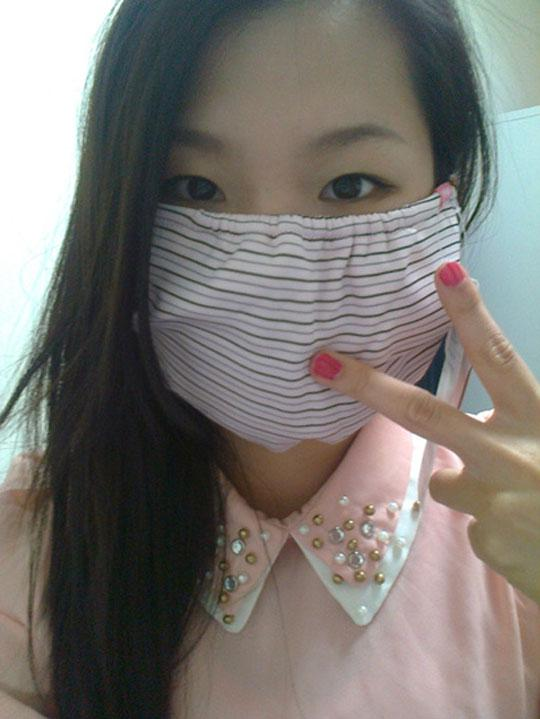OK: (145, 113, 444, 412)
